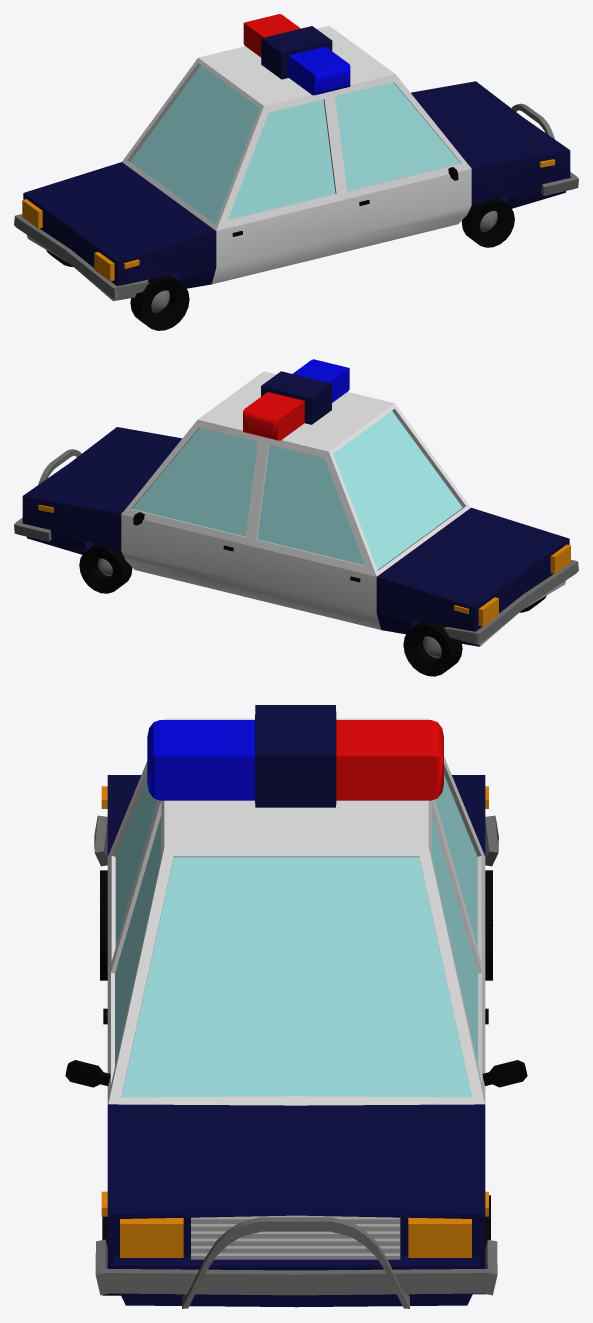
File: PoliceCar.fbx
3 views of the same model, one above another, from view 1: azimuth 30°, elevation 25°; view 2: azimuth 150°, elevation 25°; view 3: azimuth 270°, elevation 25° (orthographic). The views are drawn at different scales.
Parts seen in each view (by area): view 1: polySurface11; view 2: polySurface11; view 3: polySurface11.
Part boxes in pixels (<box>): polySurface11: <box>14,14,578,330</box>; polySurface11: <box>14,359,578,676</box>; polySurface11: <box>65,705,527,1308</box>.
Bounding box in the file's own units: 12.15 × 5.21 × 5.17.
